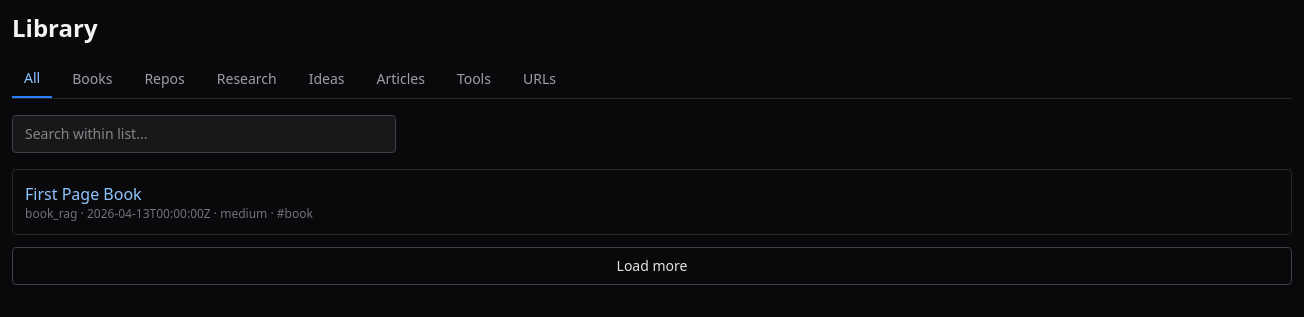
Library › Load more fetches the next cursor page and appends items
Expected: the link "First Page Book" is shown, [25, 183, 142, 205]
What coordinates should you click on to do the following:
click the button "Load more"
I would click on:
 (652, 266)
Its box is [12, 247, 1292, 285].
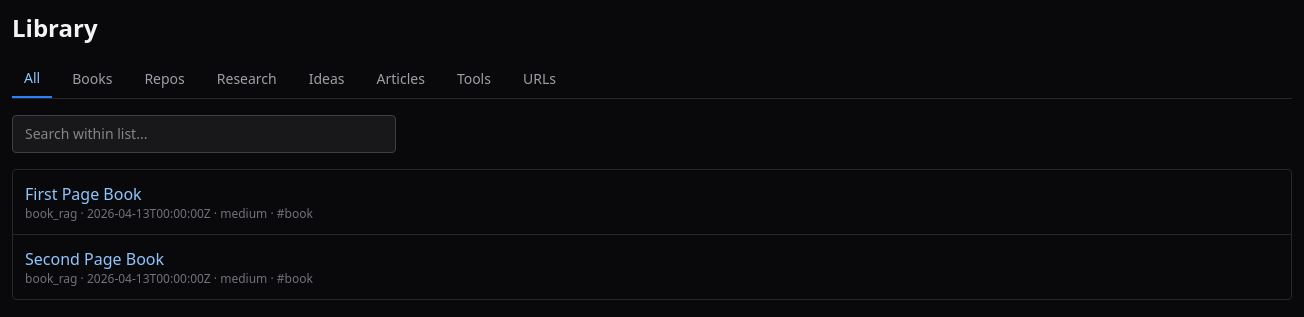
Expected: the link "First Page Book" is shown, [25, 183, 142, 205]
Expected: the link "Second Page Book" is shown, [25, 248, 164, 270]
Expected: the button "Load more" is gone
